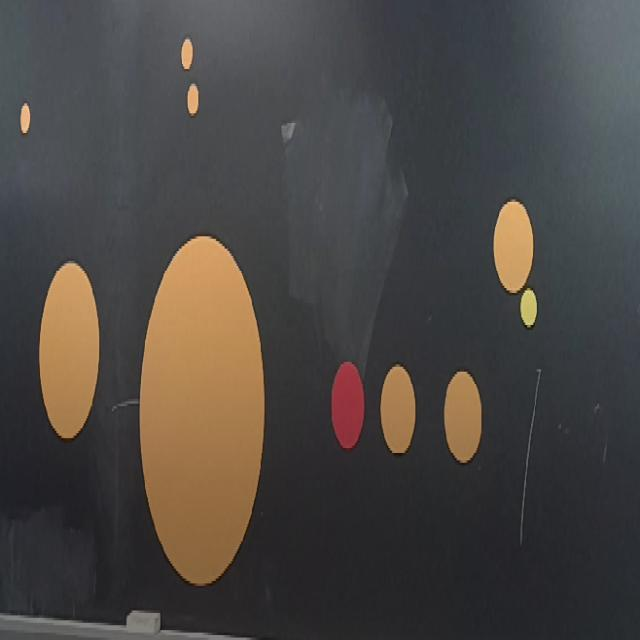Orange: (140, 233, 265, 588), (37, 261, 100, 442), (443, 369, 482, 464), (494, 201, 534, 292), (380, 364, 416, 454), (181, 36, 193, 69), (186, 82, 198, 115), (20, 102, 30, 132)
Red: (331, 360, 365, 450)
Yellow: (520, 288, 537, 328)
